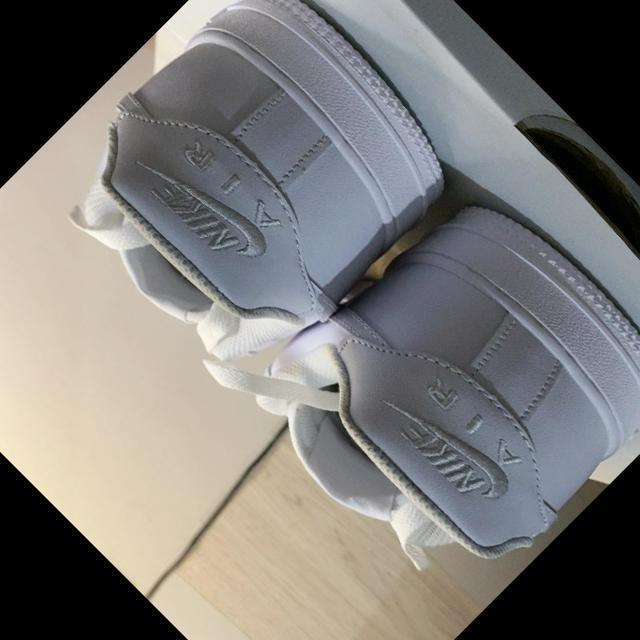nike original air force: (7, 0, 481, 413), (229, 156, 640, 630)
